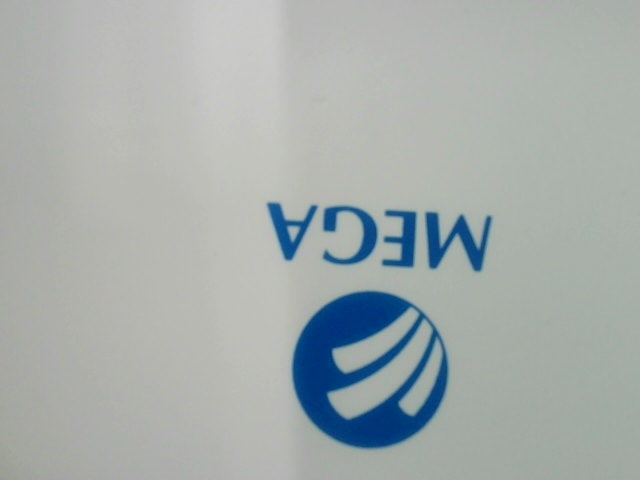AM_ZTEMEGA: (248, 185, 506, 457)
